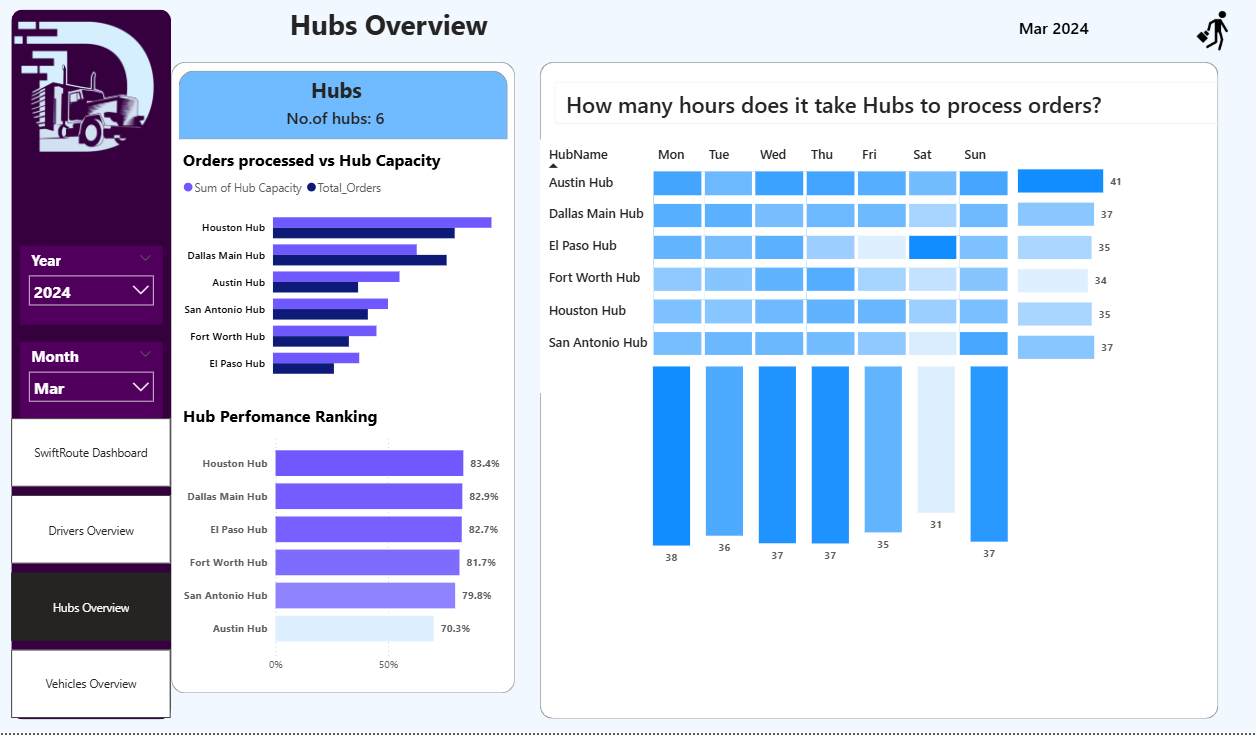

The page's visual inventory and layout, read from the dashboard file:
{"tool":"powerbi","page":{"name":"Hubs Overview","canvas":[1450,850],"ordinal":2},"visuals":[{"type":"shape","box":[13,14.4,184.8,820],"z":0},{"type":"textbox","box":[173.2,4.3,551.5,60.6],"z":1000},{"type":"slicer","fields":{"Values":["Date table.Year"]},"box":[23.1,287.3,164.6,90.9],"z":2000},{"type":"slicer","fields":{"Values":["Date table.Month"]},"box":[23.1,398.4,164.6,88.1],"z":3000},{"type":"image","box":[0,0,197.8,219.4],"z":4000},{"type":"cardVisual","fields":{"Data":["Orders (1).Year Month Title"]},"box":[1026.4,5.8,381.1,57.7],"z":5000},{"type":"shape","box":[623.3,74.6,783.5,758.6],"z":6000},{"type":"shape","box":[197.8,75.1,397,729],"z":7000},{"type":"shape","box":[206.4,85.2,379.7,79.4],"z":8000},{"type":"textbox","box":[284.4,86.6,207.9,44.8],"z":9000},{"type":"cardVisual","fields":{"Data":["Hubs.No Of Hubs"]},"box":[257,109.7,261.3,57.7],"z":10000},{"type":"clusteredBarChart","title":"Orders processed vs Hub Capacity","fields":{"Category":["Hubs.HubName"],"Y":["Sum(Hubs.Hub Capacity)","Orders (1).Total_Orders"]},"box":[206.4,174.7,379.7,278.6],"z":11000},{"type":"barChart","title":"Hub Perfomance Ranking","fields":{"Category":["Hubs.HubName"],"Y":["Orders (1).On time delivery rate"]},"box":[206.4,470.6,388.3,319],"z":12000},{"type":"pivotTable","fields":{"Rows":["Hubs.HubName"],"Columns":["Date table.Day"],"Values":["Orders (1).Avg delivery time (Hrs)"]},"box":[623.6,164.6,593.3,293.1],"z":13000},{"type":"columnChart","fields":{"Category":["Date table.Day"],"Y":["Orders (1).Avg delivery time (Hrs)"]},"box":[749.2,412.9,421.5,249.7],"z":14000},{"type":"barChart","fields":{"Category":["Hubs.HubName"],"Y":["Orders (1).Avg delivery time (Hrs)"]},"box":[1170.8,186.2,200.7,238.2],"z":15000},{"type":"cardVisual","fields":{"Data":["Hubs.Hub title"]},"box":[623.6,80.8,811.3,83.7],"z":16000},{"type":"image","box":[1352.7,14.4,96.7,49.1],"z":17000},{"type":"pageNavigator","box":[13,486.5,184.8,347.9],"z":17001}]}

Visuals, with their boxes in screenshot pixels (x1, y1, x2, y2), scaled from the page's 1450x850 canvas onto the 1256x735 screenshot:
shape: <region>11, 12, 171, 722</region>
textbox: <region>150, 4, 628, 56</region>
slicer - Date table.Year: <region>20, 248, 163, 327</region>
slicer - Date table.Month: <region>20, 344, 163, 421</region>
image: <region>0, 0, 171, 190</region>
cardVisual - Orders (1).Year Month Title: <region>889, 5, 1219, 55</region>
shape: <region>540, 65, 1219, 720</region>
shape: <region>171, 65, 515, 695</region>
shape: <region>179, 74, 508, 142</region>
textbox: <region>246, 75, 426, 114</region>
cardVisual - Hubs.No Of Hubs: <region>223, 95, 449, 145</region>
"Orders processed vs Hub Capacity" clusteredBarChart: <region>179, 151, 508, 392</region>
"Hub Perfomance Ranking" barChart: <region>179, 407, 515, 683</region>
pivotTable - Hubs.HubName x Date table.Day: <region>540, 142, 1054, 396</region>
columnChart - Date table.Day x Orders (1).Avg delivery time (Hrs): <region>649, 357, 1014, 573</region>
barChart - Hubs.HubName x Orders (1).Avg delivery time (Hrs): <region>1014, 161, 1188, 367</region>
cardVisual - Hubs.Hub title: <region>540, 70, 1243, 142</region>
image: <region>1172, 12, 1255, 55</region>
pageNavigator: <region>11, 421, 171, 722</region>
